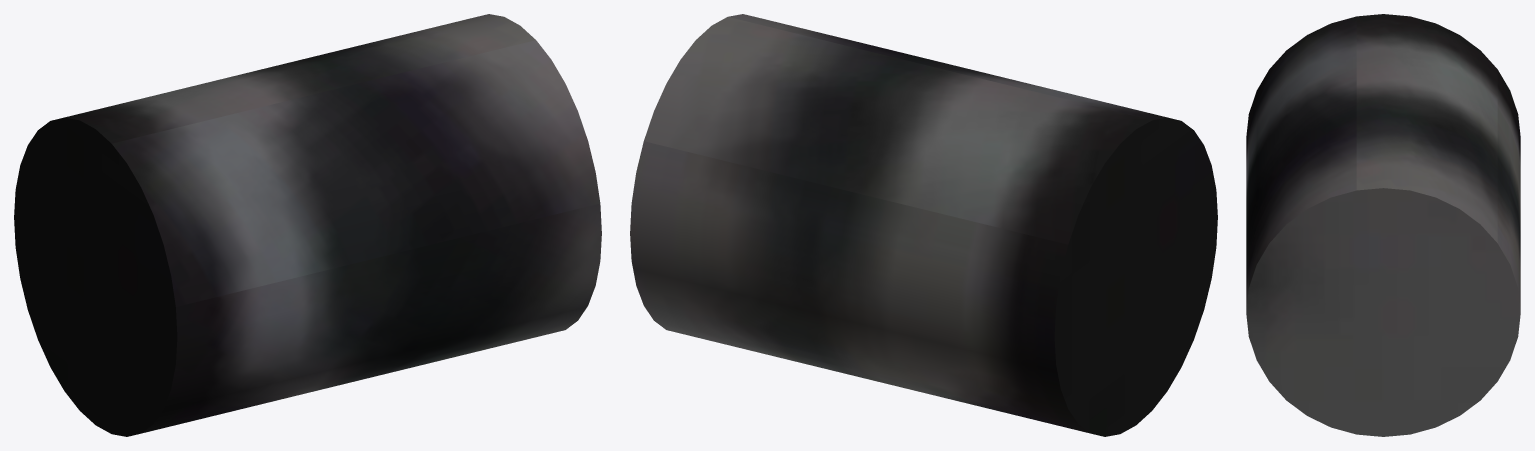
File: selector_knob__selector_tip.glb
The picture shows the model from 3 angles, left to right: view 1: azimuth 30°, elevation 25°; view 2: azimuth 150°, elevation 25°; view 3: azimuth 270°, elevation 25°; orthographic projection. The views are drawn at different scales.
Visible parts, largest first — view 1: world; view 2: world; view 3: world.
Boxes of the visible parts, x1,y1,x2,y2 form: world: (14,14,601,436); world: (630,14,1217,436); world: (1246,14,1520,436).
Bounding box in the file's own units: 0.012 × 0.008 × 0.008.
Materials: 1 (1 with a texture image).
